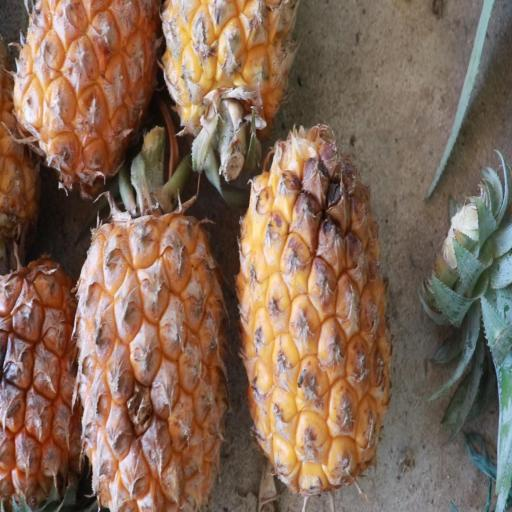Pineapple - v8 v1: (234, 119, 398, 498), (72, 164, 234, 512), (9, 0, 164, 187), (0, 244, 95, 511), (160, 1, 302, 157)
